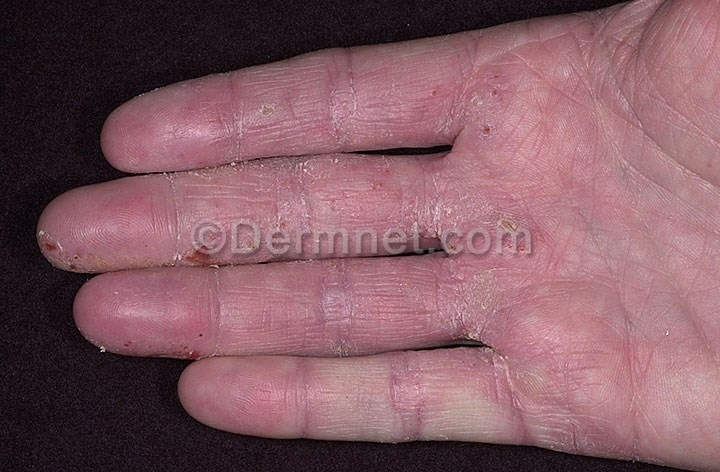Eczema: (39, 38, 608, 452)
